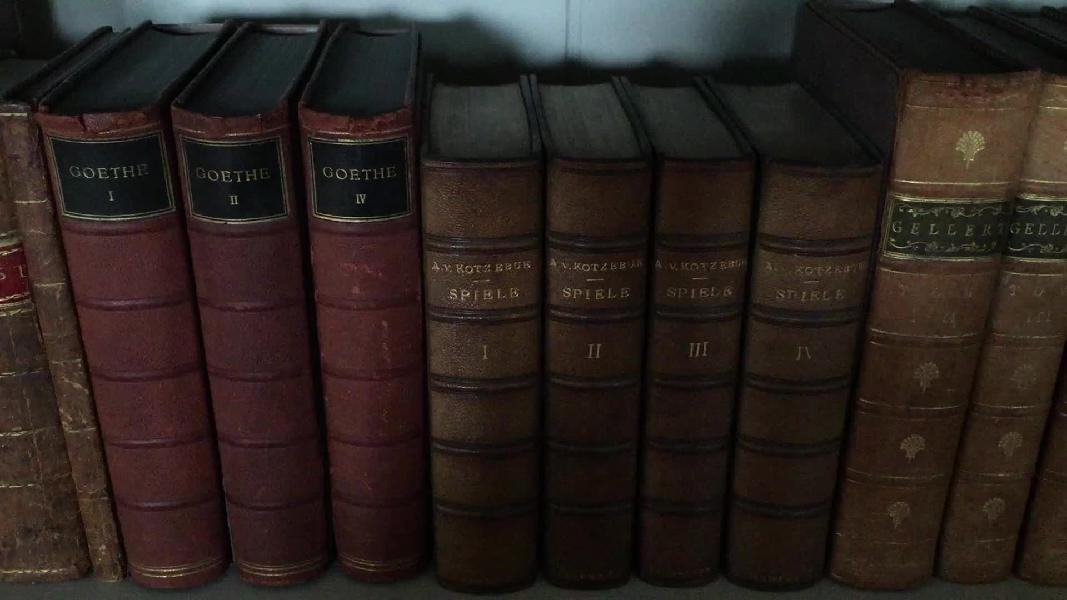Aa6-10: (6, 107, 128, 582)
Aa6-11_13: (21, 90, 435, 600)
Aa6-14_17: (411, 139, 893, 586)
